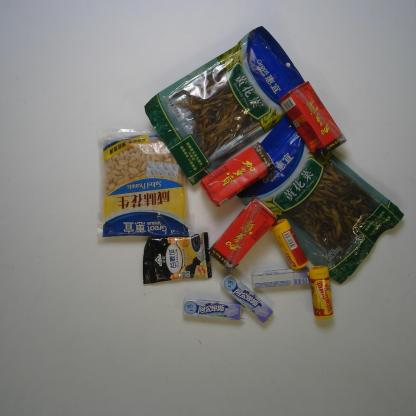Candy: (219, 272, 274, 324), (269, 218, 309, 272), (306, 265, 334, 320), (182, 296, 246, 320), (251, 267, 311, 289)
Dried Food: (236, 113, 405, 285), (143, 23, 307, 188)
Dried Fruit: (94, 122, 195, 240)
Drink: (198, 140, 276, 209), (208, 197, 279, 272), (279, 80, 347, 158)
Instant Drink: (142, 232, 213, 285)
